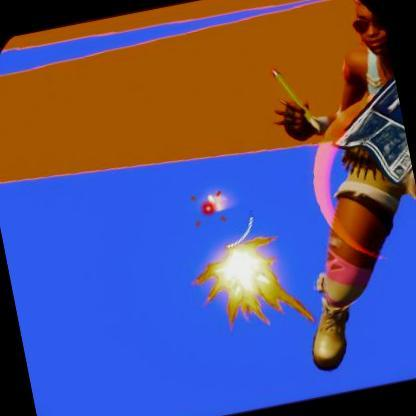person: (305, 5, 416, 290)
